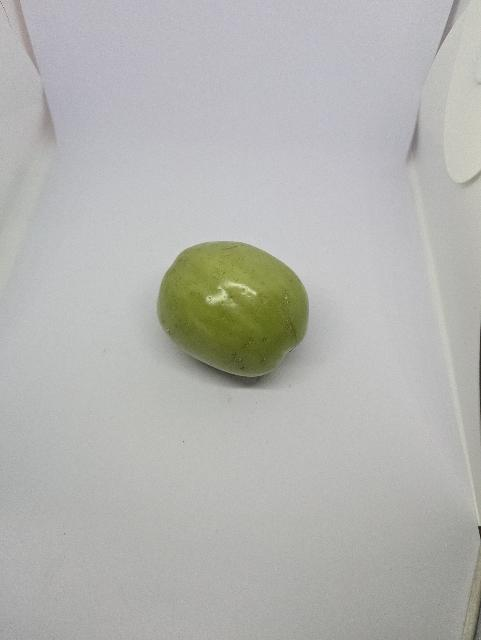green: (154, 228, 318, 395)
